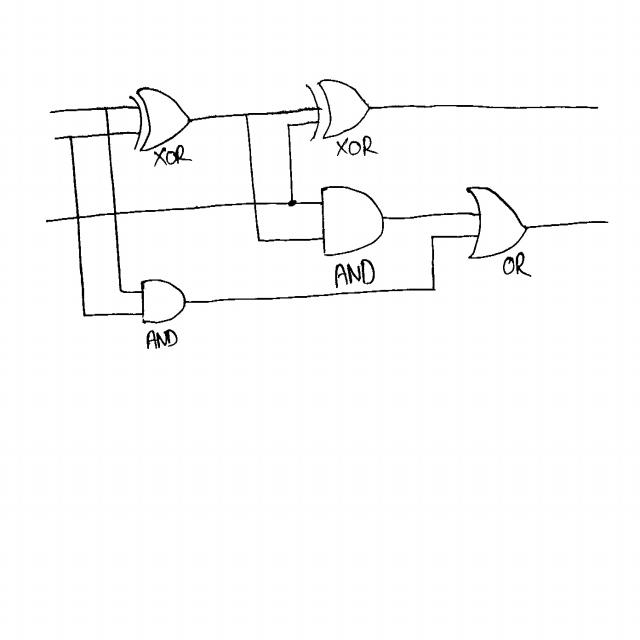crossover: (74, 212, 83, 222), (111, 208, 119, 219), (103, 130, 113, 138), (251, 199, 259, 208)
junction: (428, 281, 439, 295), (427, 231, 438, 244), (287, 197, 297, 208), (242, 109, 251, 120), (101, 104, 109, 113), (255, 236, 263, 244), (118, 286, 125, 295), (81, 311, 88, 319), (285, 122, 292, 130), (67, 134, 74, 141)
terminal: (598, 216, 613, 230), (592, 103, 601, 114), (51, 134, 61, 142), (42, 217, 51, 225), (47, 108, 55, 116)
text: (333, 259, 377, 287), (336, 133, 378, 158), (153, 142, 193, 168), (143, 326, 181, 352), (501, 250, 532, 280)
